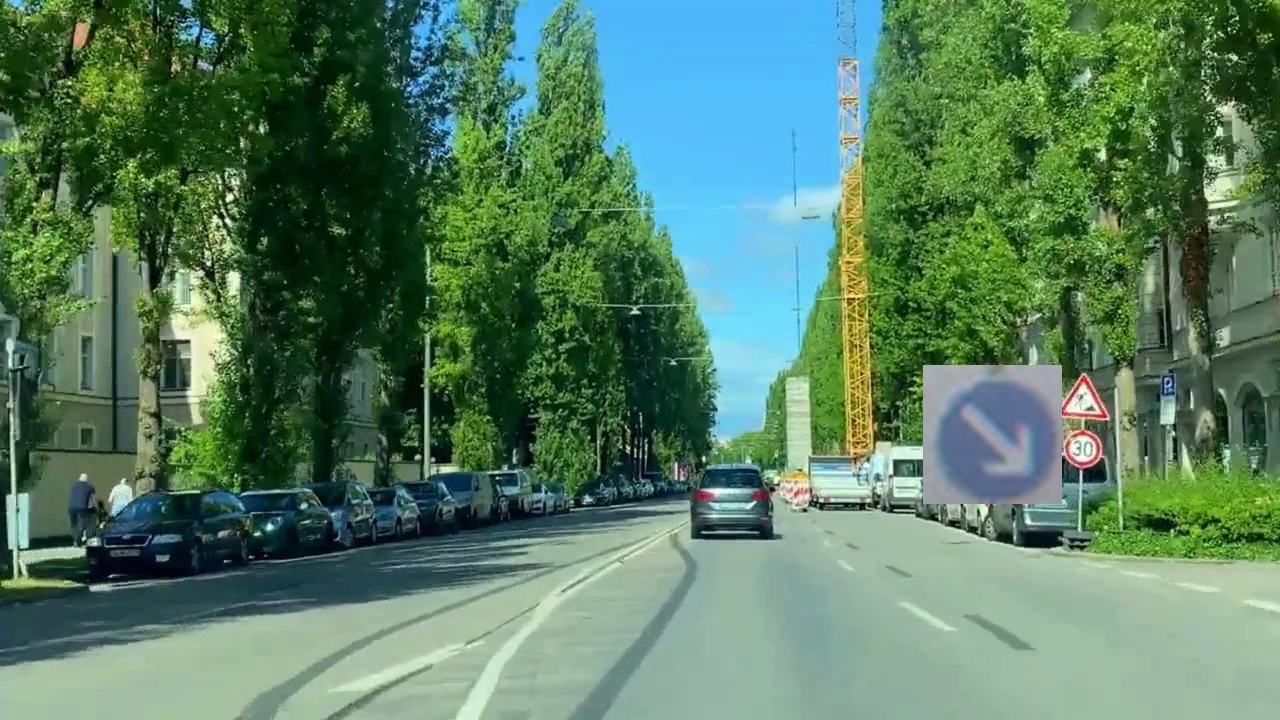Keep right: (923, 365, 1062, 504)
